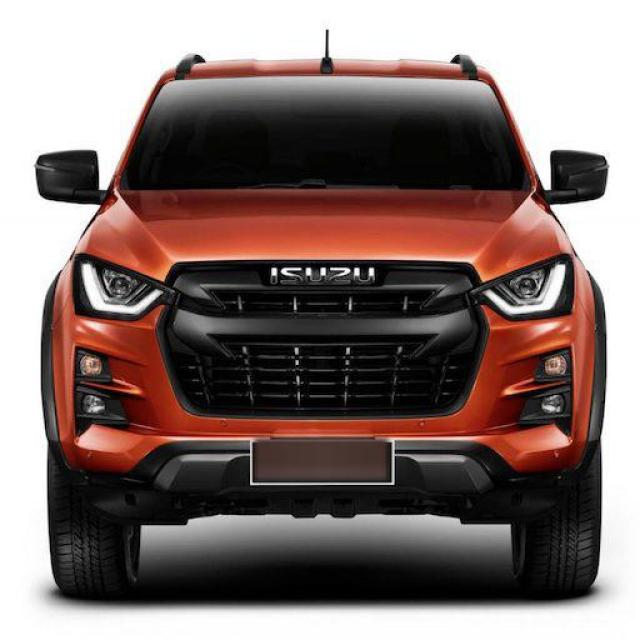front_bumper: (40, 260, 607, 526)
front_glass: (121, 74, 532, 190)
front_left_light: (468, 255, 576, 321)
front_right_light: (72, 254, 180, 321)
hood: (76, 188, 573, 282)
left_mirror: (540, 150, 609, 204)
right_mirror: (35, 148, 109, 205)
wheel: (49, 439, 604, 601)
